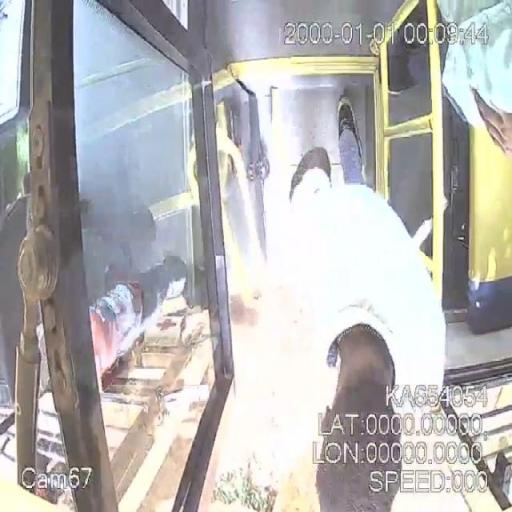persona: (266, 96, 450, 511)
